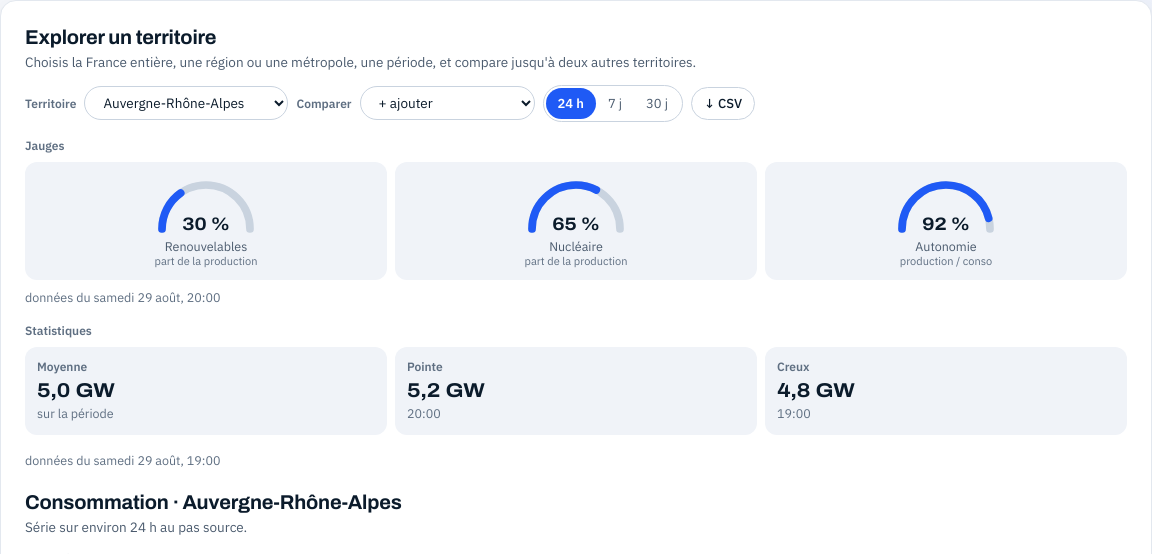
Test: ExplorerSection : comparaison de territoires › deux comparaisons au plus : le sélecteur se ferme et dit pourquoi
The width and height of the screenshot is (1152, 554).
Expected: the heading "Consommation · Auvergne-Rhône-Alpes" is shown, x1=25 y1=490 x2=402 y2=514
Select "Île-de-France" in the dropdown labelled "Comparer": [447, 103] box x1=360 y1=86 x2=535 y2=120
Select "France entière" in the dropdown labelled "Comparer": [447, 103] box x1=360 y1=86 x2=535 y2=120
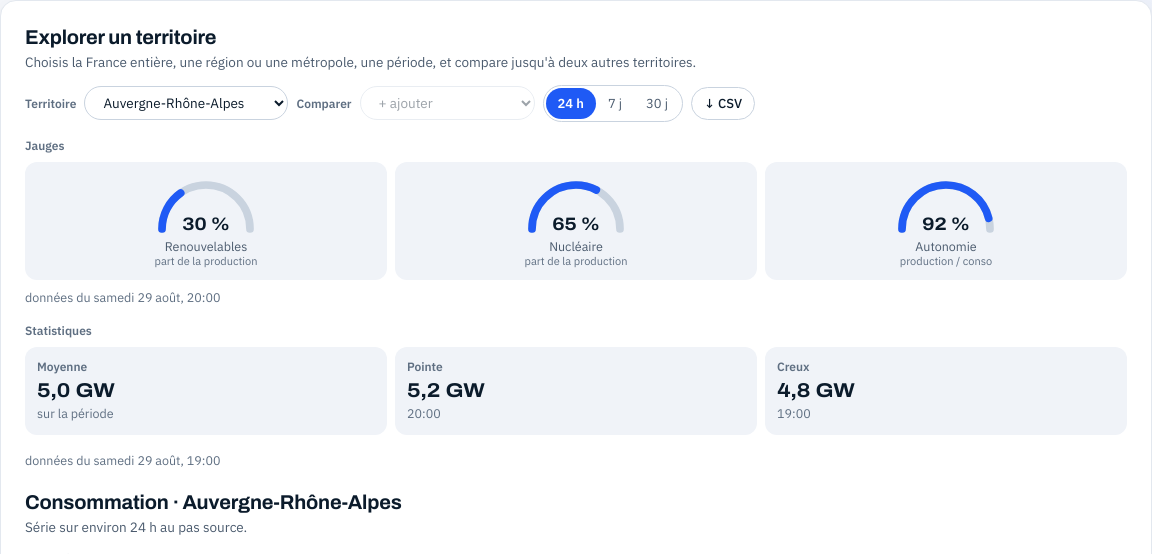
Expected: the dropdown labelled "Comparer" is disabled, x1=360 y1=86 x2=535 y2=120
